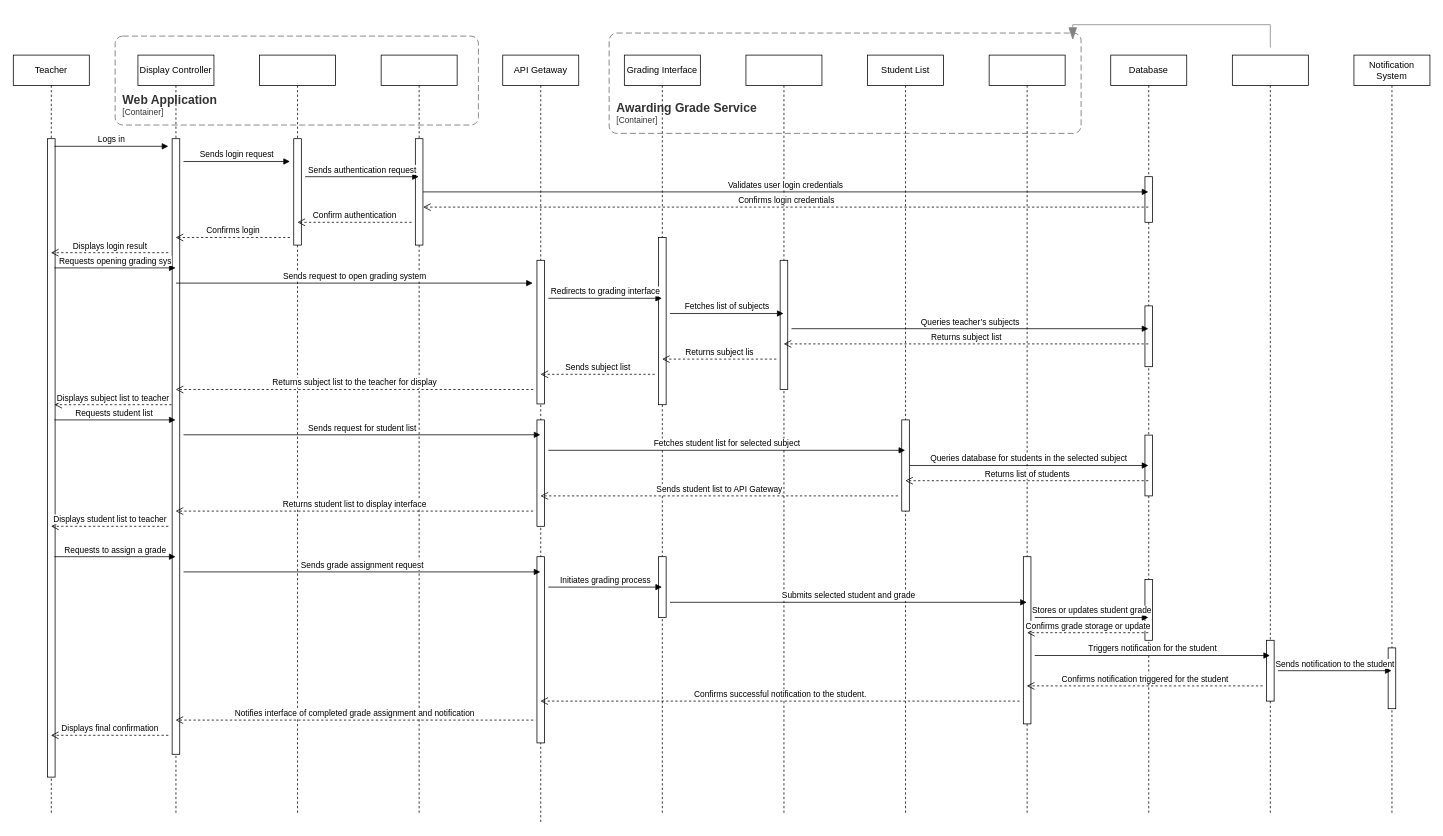
The diagram is 1443 pixels wide and 836 high, and some of its shapes have lost their labels. Here are the shapes that lost their labels. From the top down, the box of each, then its label:
(259, 54, 336, 815): Login Controller
(380, 54, 457, 815): User Authenticator
(745, 54, 822, 815): Subject List
(988, 54, 1065, 815): Grade Assigner
(1232, 54, 1308, 815): Notification handler
